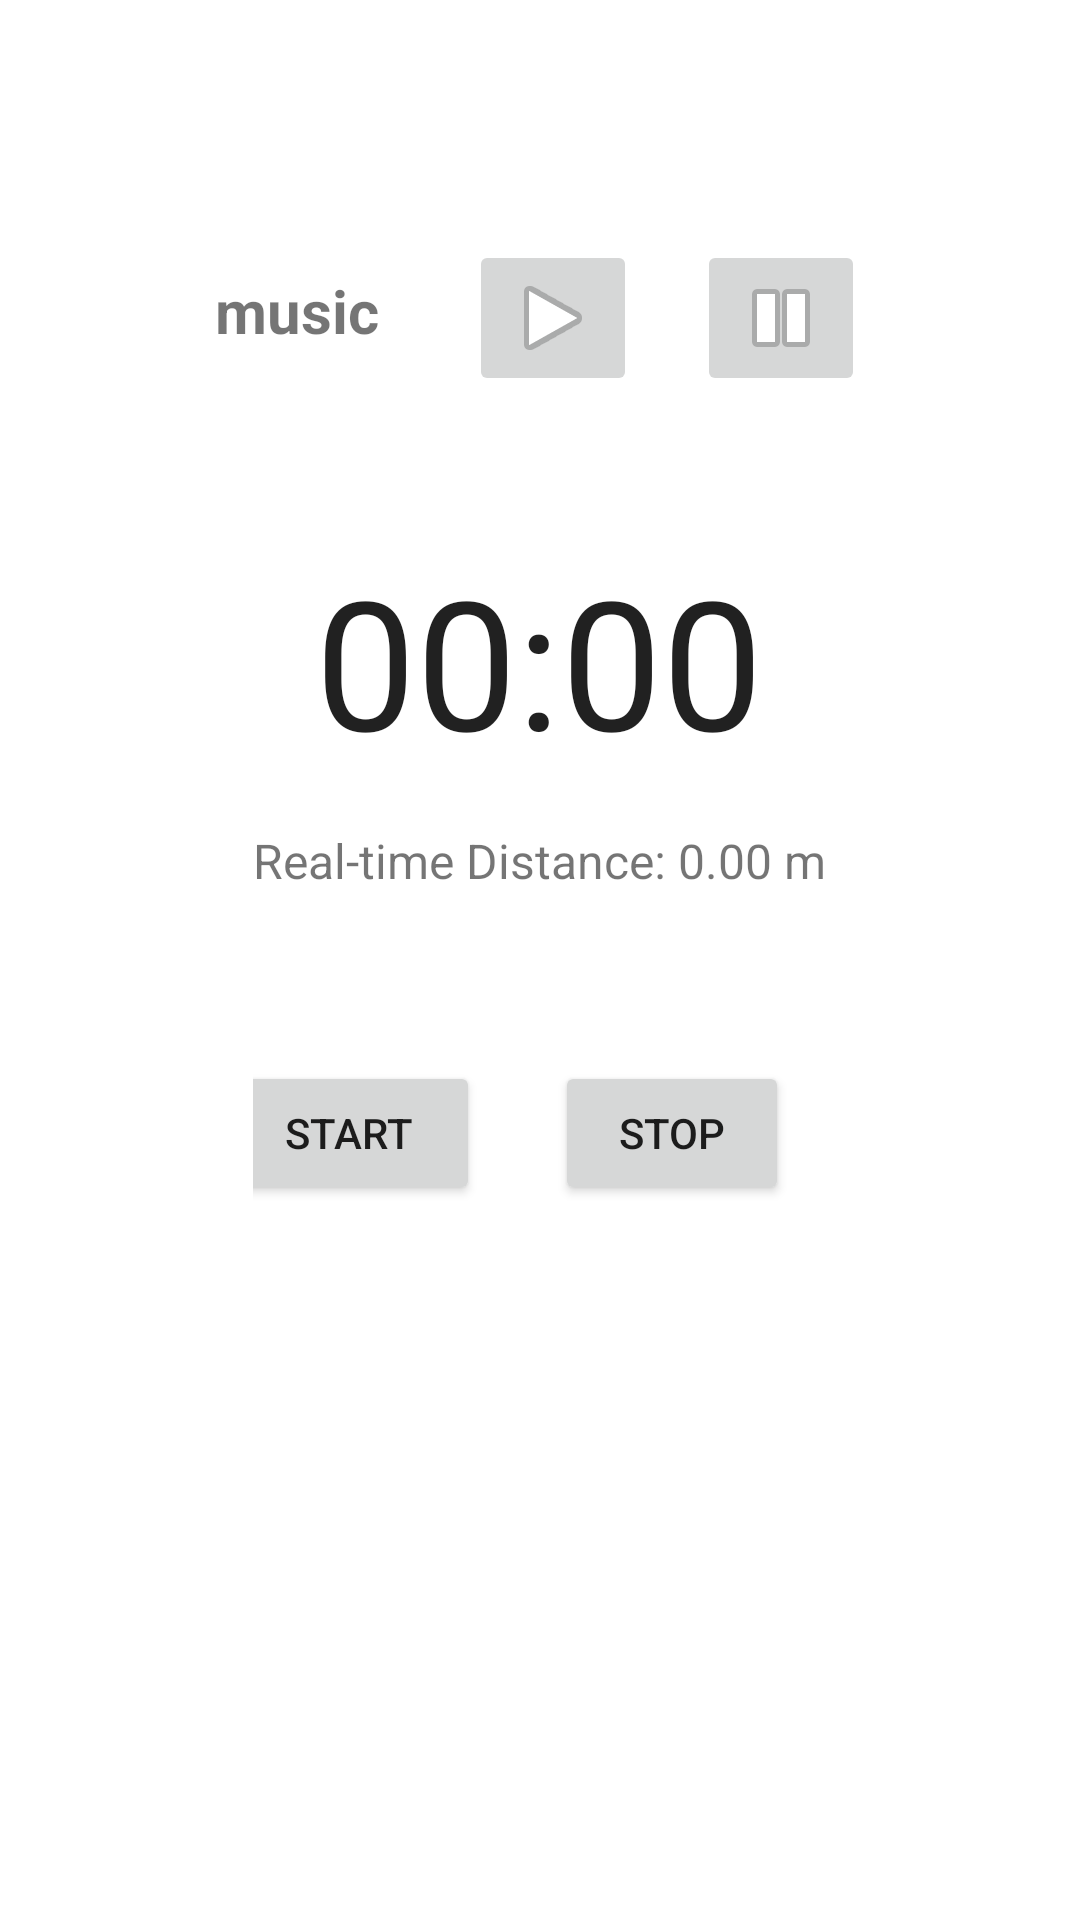

Icons on this 1080*1920 Android screen, each with the point to tap as point (x, y):
pause: point (781, 318)
play: point (553, 318)
